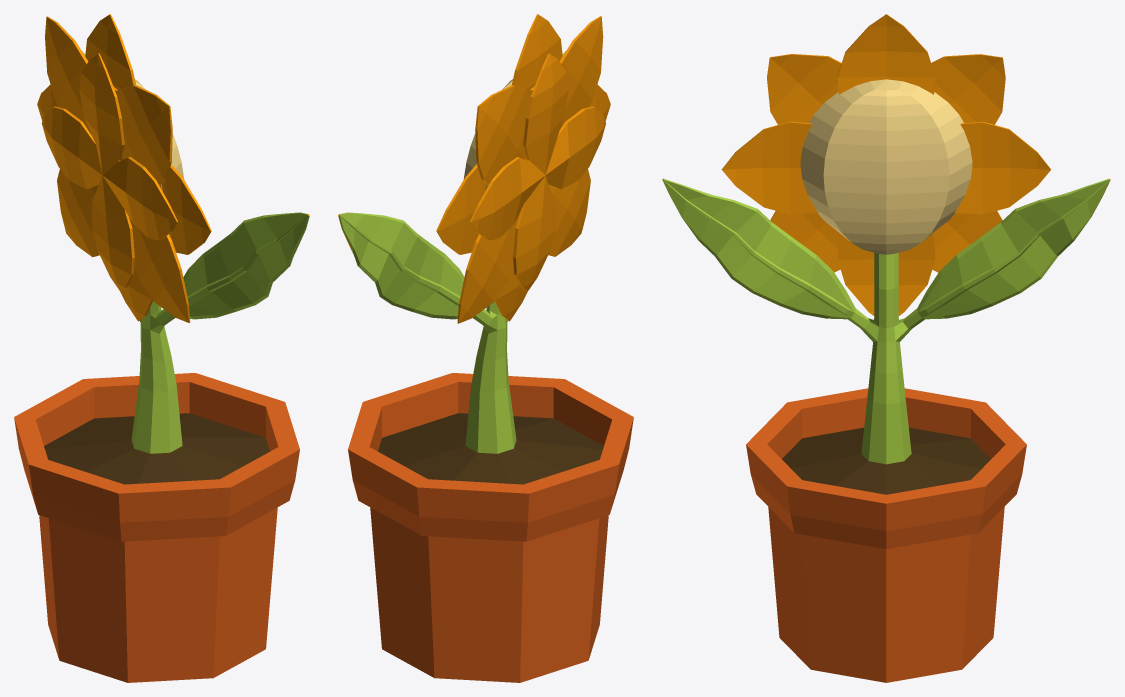
Rendered from Flower_Watered.fbx.
3 views of the same model, side by side, from view 1: azimuth 30°, elevation 25°; view 2: azimuth 150°, elevation 25°; view 3: azimuth 270°, elevation 25° (orthographic). The views are drawn at different scales.
Parts seen in each view (by area): view 1: Flower Watered; view 2: Flower Watered; view 3: Flower Watered.
Boxes of the visible parts, <box> form: Flower Watered: <box>14,14,309,682</box>; Flower Watered: <box>338,14,633,682</box>; Flower Watered: <box>662,14,1110,682</box>.
Size of the model in its own units: 466 by 1100 by 743.
